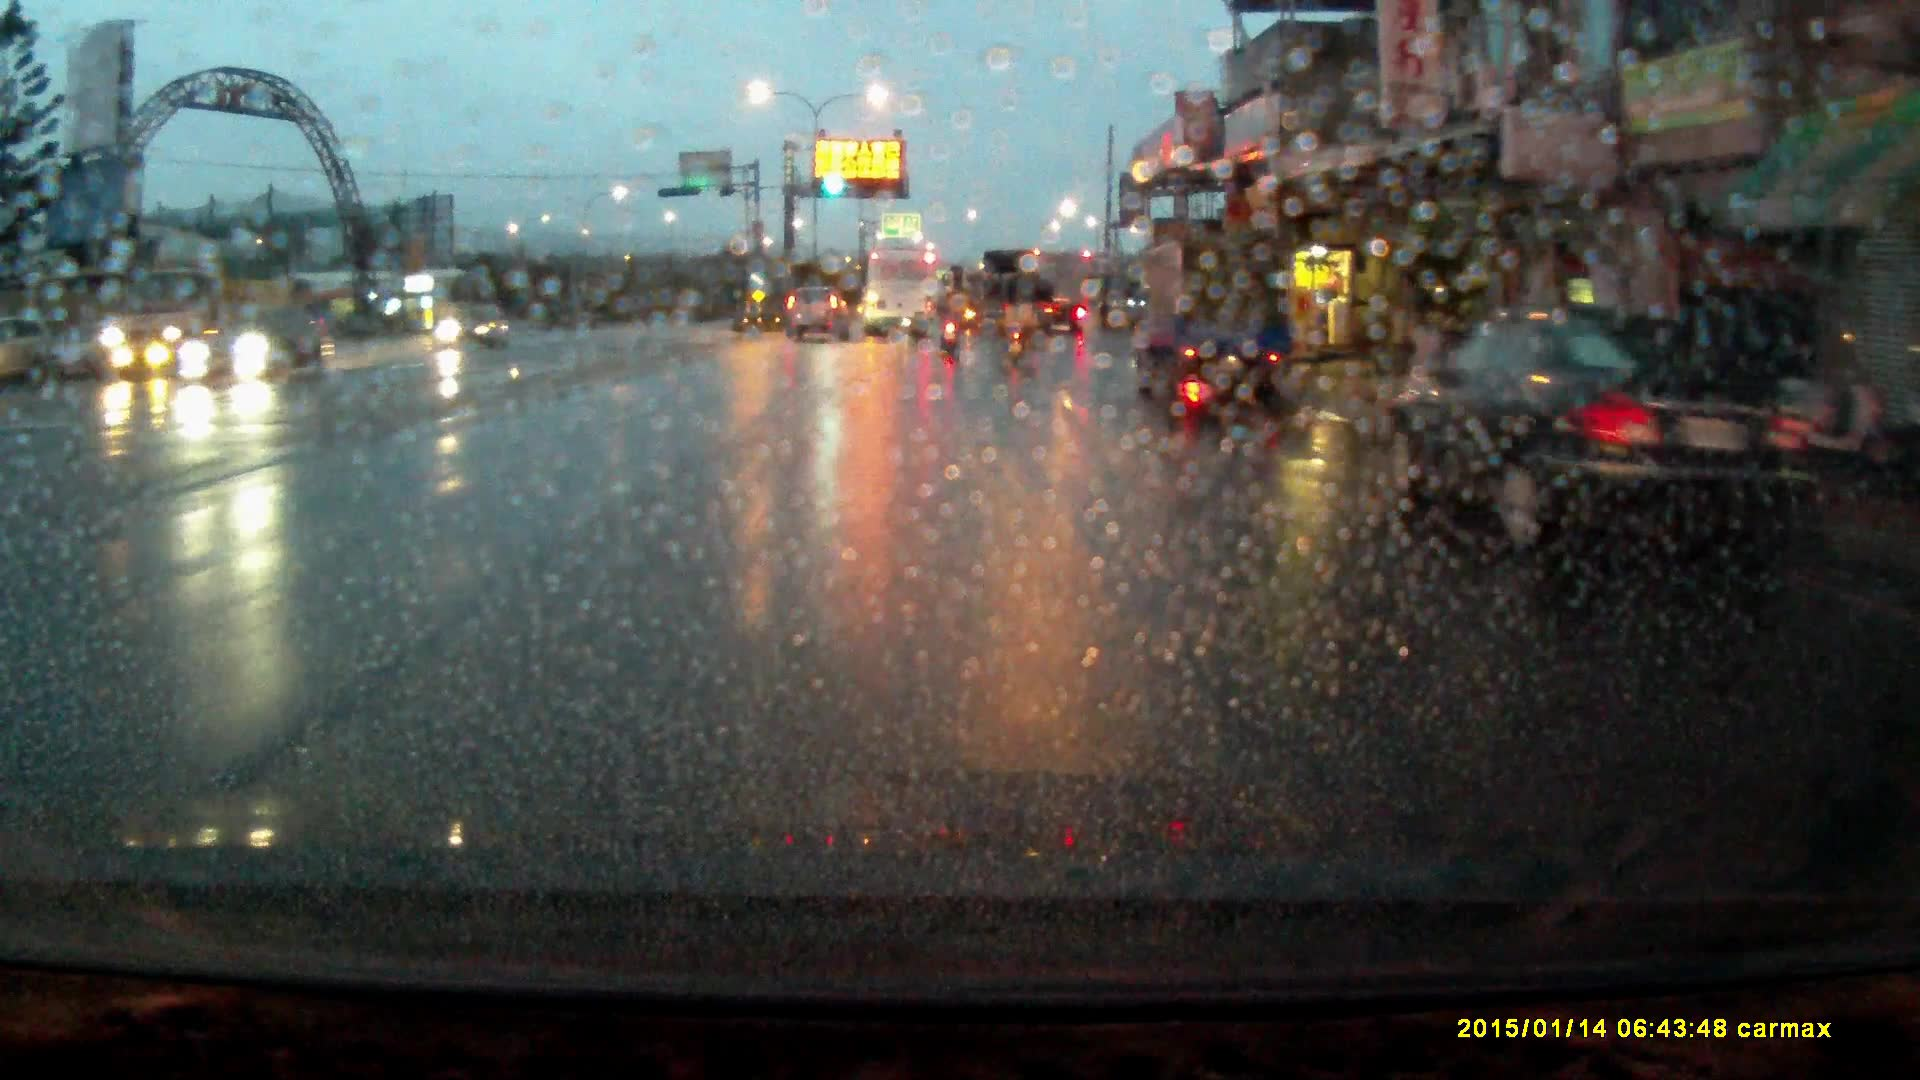rider: (999, 276, 1036, 359), (935, 282, 968, 352)
vehicle: (1384, 300, 1844, 558), (1132, 229, 1296, 389), (100, 254, 317, 375), (182, 312, 330, 390), (866, 246, 936, 339), (986, 252, 1053, 339), (1, 310, 60, 390), (430, 301, 514, 351), (786, 274, 851, 335)
